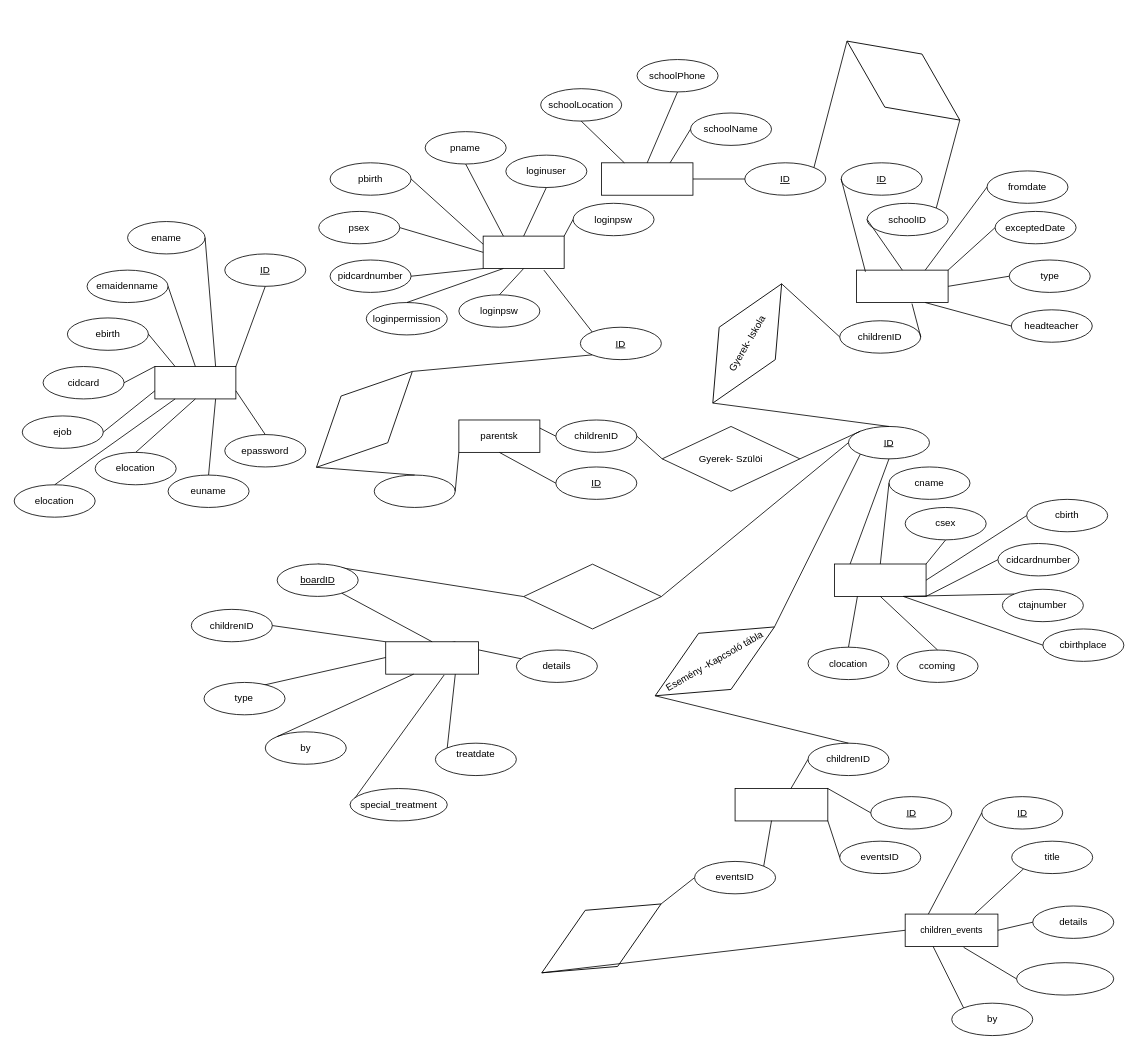
Image size: 1138x1050. Some labels were removed from this diagram. The shapes that lost their labels are listed below. From the top down, each one's centre as x and y in pixels, then its label:
At point (902, 80): "Iskola adat- Iskola_Gyerek".
At point (647, 178): "school".
At point (523, 252): "parents".
At point (902, 286): "children_school".
At point (195, 382): "employes_user".
At point (364, 419): "SzülőAdatok- Szülöi _Gyerek".
At point (414, 490): "pID".
At point (592, 596): "Egészségügy - Gyerek".
At point (880, 579): "children_fullprofile".
At point (431, 657): "children_health s".
At point (781, 804): "ceventsk".
At point (601, 938): "Gyerek-Kapcsoló tábla".
At point (1065, 978): "img".
